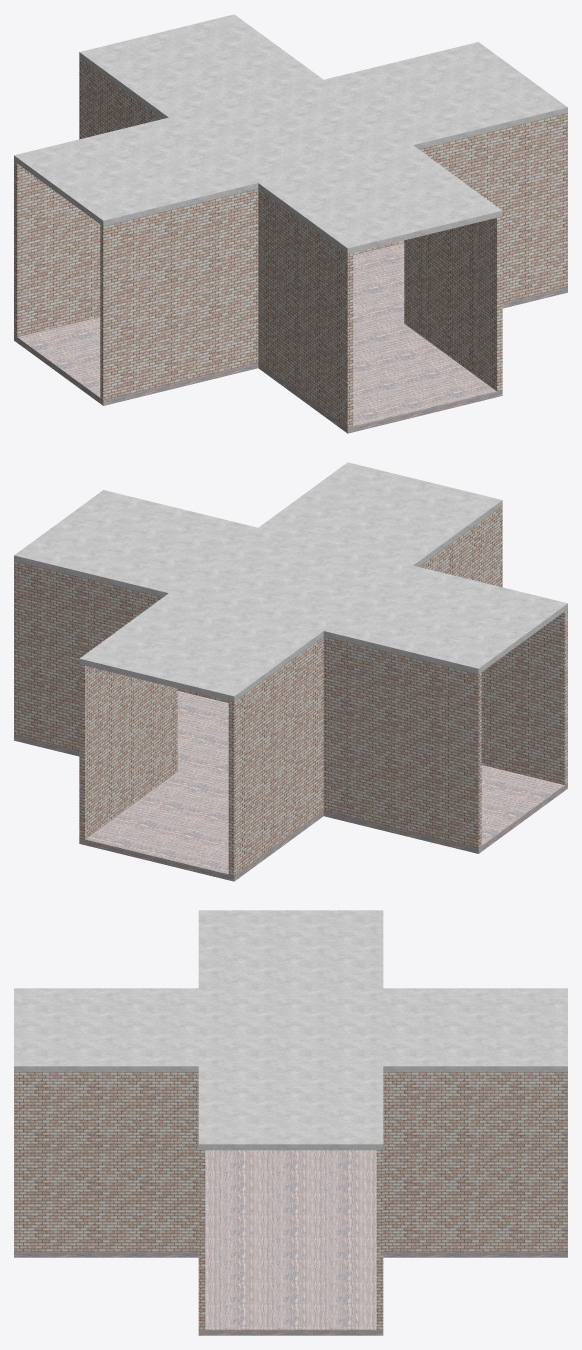
The model's file is OLD_Junction.obj.
3 renders of one model, top to bottom at view 1: azimuth 30°, elevation 25°; view 2: azimuth 150°, elevation 25°; view 3: azimuth 270°, elevation 25°, orthographic. The views are drawn at different scales.
Visible parts, largest first — view 1: Walls1, Ceiling1, Floors1; view 2: Walls1, Ceiling1, Floors1; view 3: Ceiling1, Walls1, Floors1.
Part boxes in pixels (x1,y1,x2,y2): Walls1: (14,58,567,427); Ceiling1: (14,14,567,253); Floors1: (14,243,567,433); Walls1: (14,506,567,875); Ceiling1: (14,462,567,701); Floors1: (14,691,567,881); Ceiling1: (14,910,567,1150); Walls1: (14,1072,567,1329); Floors1: (14,1150,567,1335).
Bounding box in the file's own units: 84 × 32 × 84.
